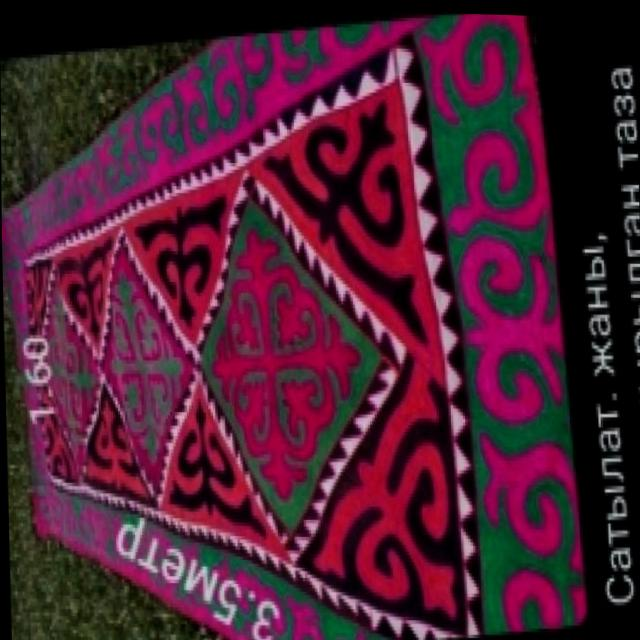Unity: (199, 205, 377, 520), (106, 250, 191, 492)
